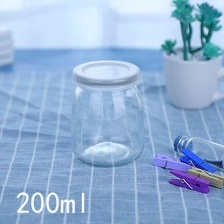bottle: (64, 56, 149, 168), (172, 128, 223, 174)
glass: (158, 40, 224, 116)
